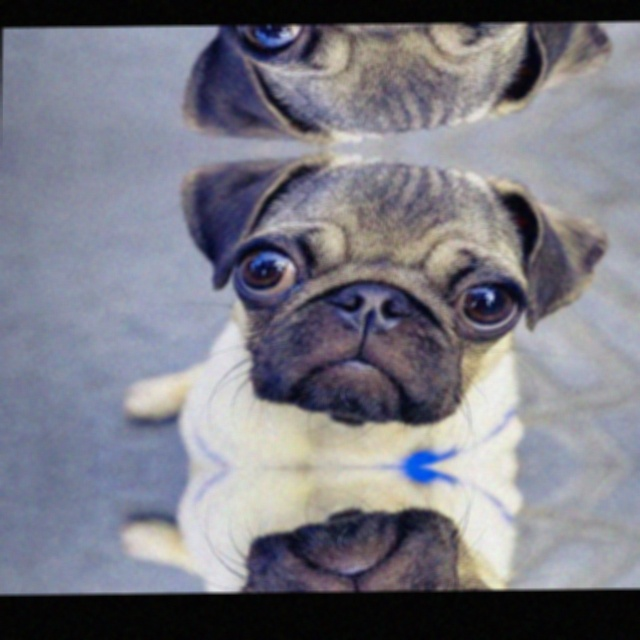dog: (110, 155, 615, 461), (117, 22, 618, 142), (108, 474, 608, 594)
